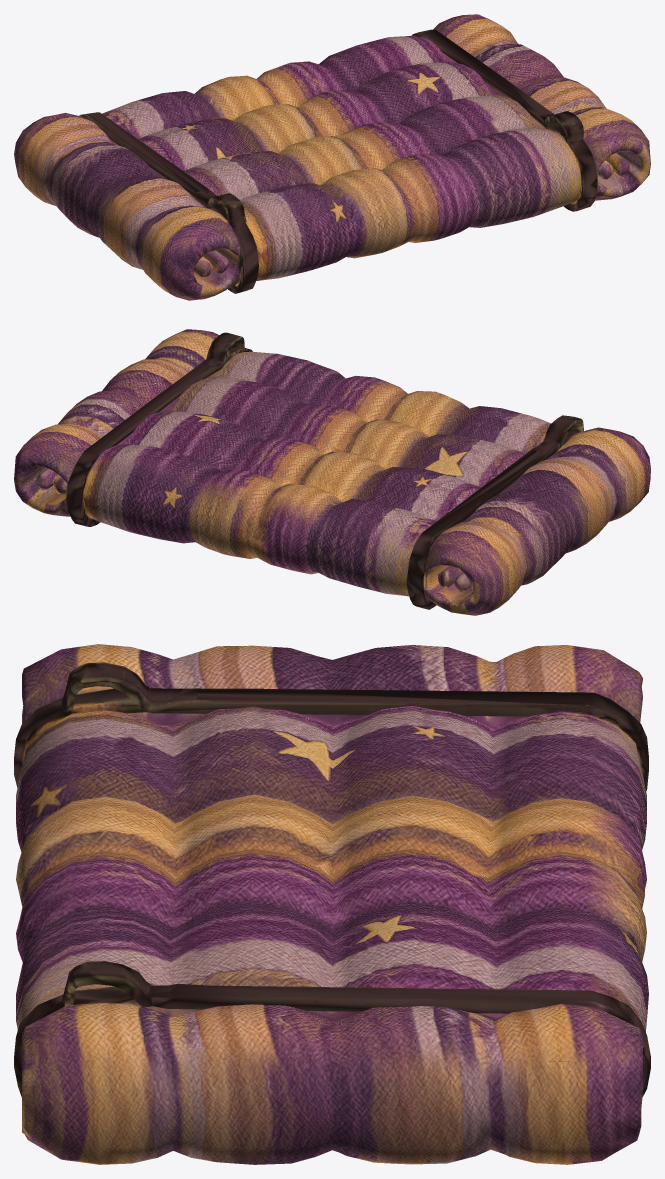
Rendered from roof-blanket.glb.
The picture shows the model from 3 angles, top to bottom: view 1: azimuth 30°, elevation 25°; view 2: azimuth 150°, elevation 25°; view 3: azimuth 270°, elevation 25°; orthographic projection. The views are drawn at different scales.
Visible parts, largest first — view 1: Mesh_0.001; view 2: Mesh_0.001; view 3: Mesh_0.001.
Boxes of the visible parts, x1,y1,x2,y2 form: Mesh_0.001: [14, 14, 650, 300]; Mesh_0.001: [14, 329, 650, 615]; Mesh_0.001: [14, 644, 650, 1164].
Bounding box in the file's own units: 1.15 × 0.2 × 0.7281.
Materials: 1 (1 with a texture image).
